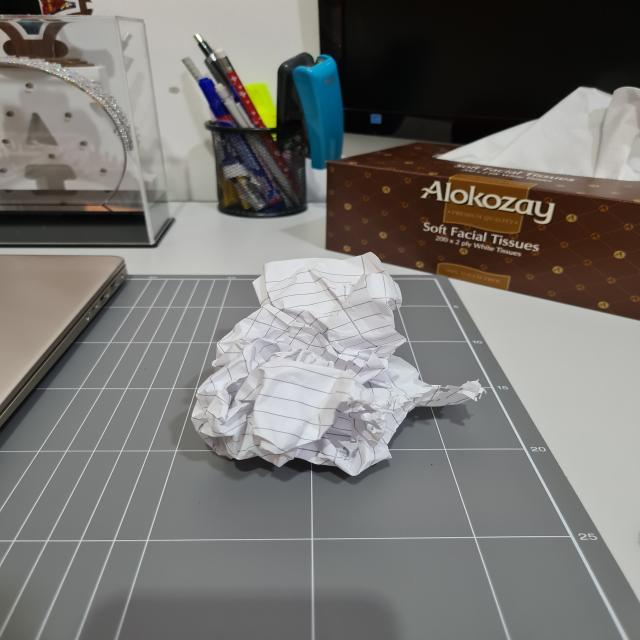Paper: (189, 252, 481, 478)
